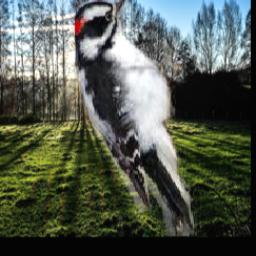Woodpecker: (75, 0, 197, 237)
